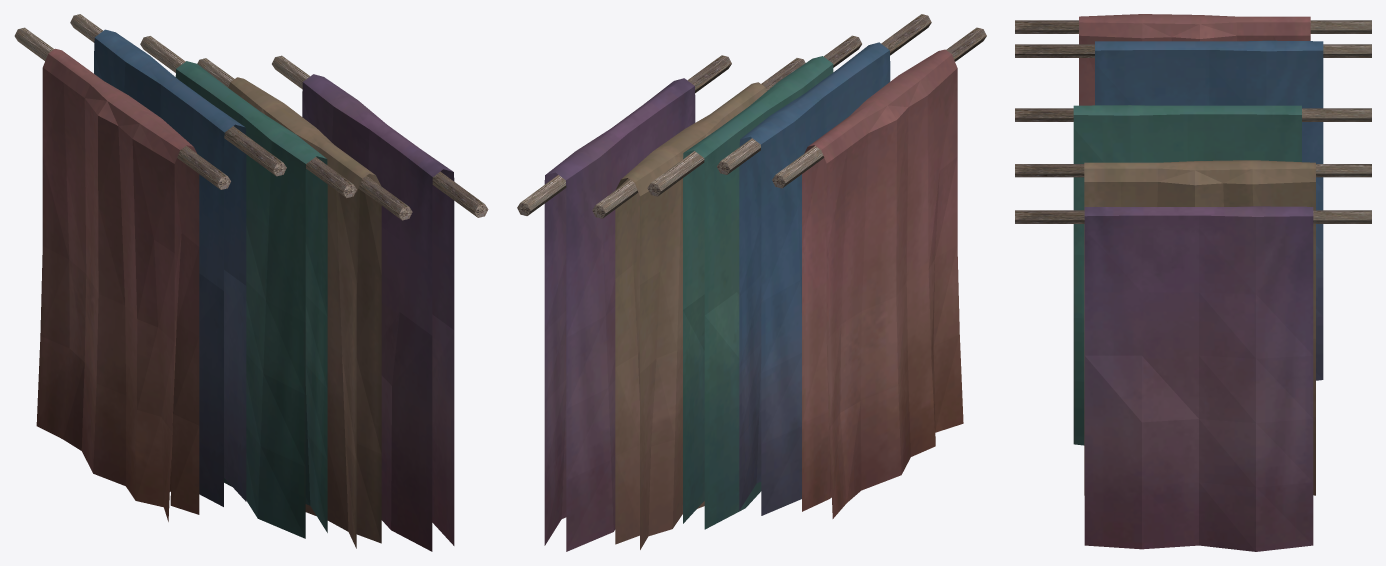
The model's file is bg_anh_mirrorv_dc04_sm_ysi.FBX.
3 views of the same model, side by side, from view 1: azimuth 30°, elevation 25°; view 2: azimuth 150°, elevation 25°; view 3: azimuth 270°, elevation 25° (orthographic). The views are drawn at different scales.
Parts seen in each view (by area): view 1: bg_anh_mirrorv_dc04_sm_ysi; view 2: bg_anh_mirrorv_dc04_sm_ysi; view 3: bg_anh_mirrorv_dc04_sm_ysi.
Boxes of the visible parts, <box> form: bg_anh_mirrorv_dc04_sm_ysi: <box>14,14,488,551</box>; bg_anh_mirrorv_dc04_sm_ysi: <box>517,14,986,551</box>; bg_anh_mirrorv_dc04_sm_ysi: <box>1015,14,1371,551</box>.
Bounding box in the file's own units: 154 × 222 × 174.
